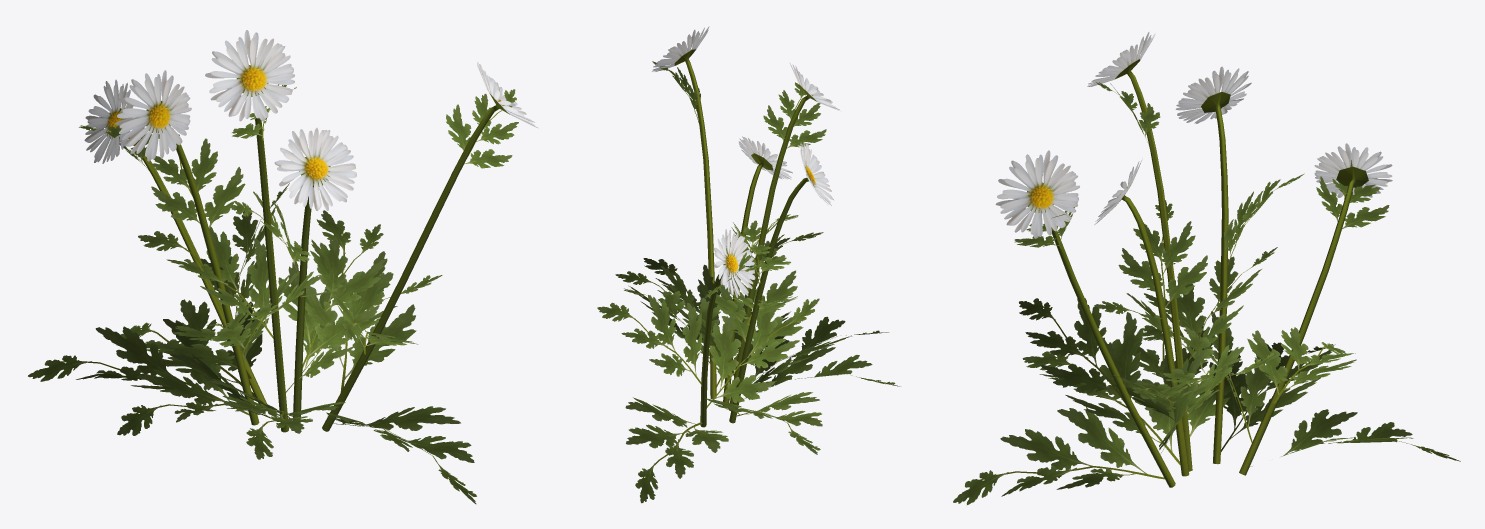
Rendered from flower.obj.
3 renders of one model, left to right at view 1: azimuth 30°, elevation 25°; view 2: azimuth 150°, elevation 25°; view 3: azimuth 270°, elevation 25°, orthographic. The views are drawn at different scales.
Parts seen in each view (by area): view 1: daisy leaf, flower daisy, plant05; view 2: daisy leaf, plant05, flower daisy; view 3: daisy leaf, plant05, flower daisy.
Boxes of the visible parts, bbox=[...] form: daisy leaf: bbox=[28, 84, 518, 504]; flower daisy: bbox=[84, 30, 538, 210]; plant05: bbox=[105, 65, 509, 432]; daisy leaf: bbox=[597, 61, 900, 503]; plant05: bbox=[674, 49, 816, 427]; flower daisy: bbox=[652, 26, 839, 298]; daisy leaf: bbox=[953, 82, 1460, 504]; plant05: bbox=[1027, 59, 1368, 487]; flower daisy: bbox=[995, 32, 1392, 238].
Bounding box in the file's own units: 76.51 × 86.74 × 94.46.
3 materials, 3 textured.
